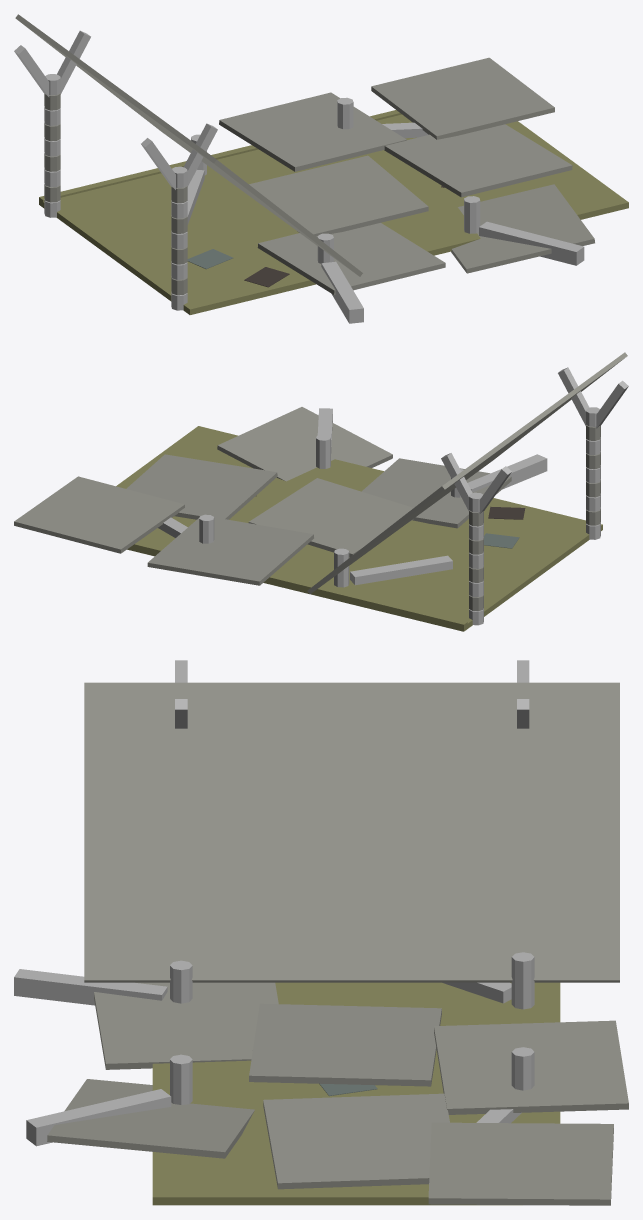
The model's file is SM_MarquesinaBus_v0_Limpia_e2_MuyDanado_LOD0.fbx.
3 renders of one model, top to bottom at view 1: azimuth 30°, elevation 25°; view 2: azimuth 150°, elevation 25°; view 3: azimuth 270°, elevation 25°, orthographic. The views are drawn at different scales.
Visible parts, largest first — view 1: SM_marquesina_bus_v2_LOD0; view 2: SM_marquesina_bus_v2_LOD0; view 3: SM_marquesina_bus_v2_LOD0.
Part boxes in pixels (x1,y1,x2,y2): SM_marquesina_bus_v2_LOD0: (14,14,628,323); SM_marquesina_bus_v2_LOD0: (14,352,628,631); SM_marquesina_bus_v2_LOD0: (14,660,628,1205).
Size of the model in its own units: 13.82 by 4.63 by 10.79.
